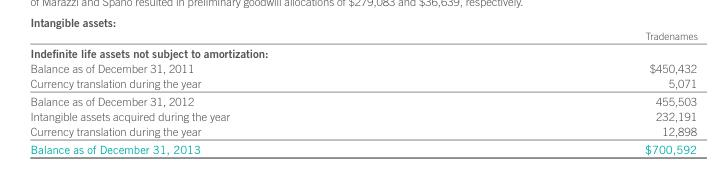table: (29, 29, 697, 155)
table column: (29, 29, 436, 155), (436, 29, 697, 155)
table column header: (29, 29, 697, 43)
table projected row header: (29, 43, 697, 60)
table row: (29, 43, 697, 60), (29, 91, 697, 108), (29, 75, 697, 91), (29, 123, 697, 139), (29, 139, 697, 155), (29, 60, 697, 75), (29, 108, 697, 123), (29, 29, 697, 43)
